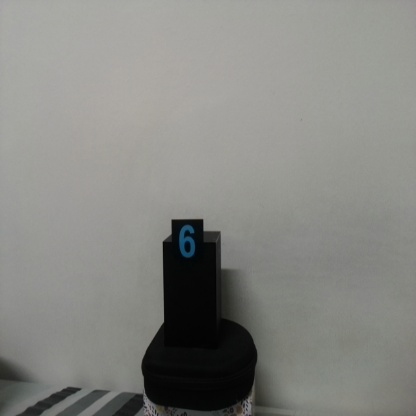id_6: (171, 220, 205, 269)
